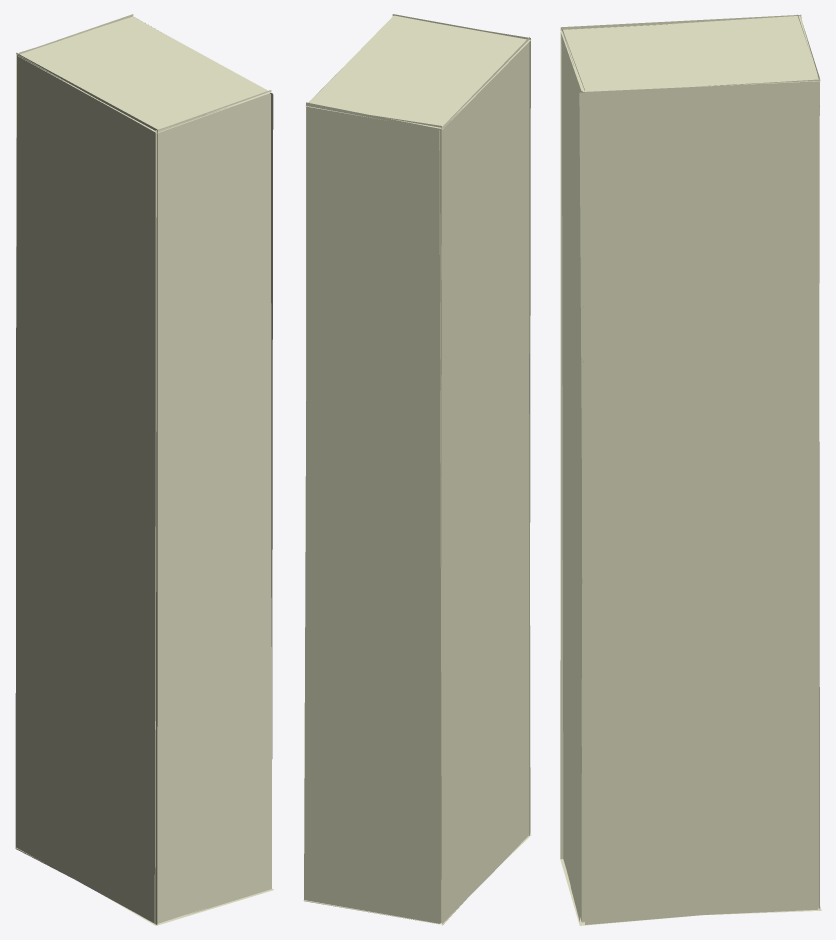
The model's file is original_16.obj.
3 renders of one model, left to right at view 1: azimuth 30°, elevation 25°; view 2: azimuth 150°, elevation 25°; view 3: azimuth 270°, elevation 25°, orthographic. The views are drawn at different scales.
Visible parts, largest first — view 1: #ID98; view 2: #ID98; view 3: #ID98.
Boxes of the visible parts, <box> form: #ID98: <box>15,14,273,925</box>; #ID98: <box>303,14,531,925</box>; #ID98: <box>560,14,821,925</box>.
Size of the model in its own units: 0.0109 by 0.054 by 0.0153.
